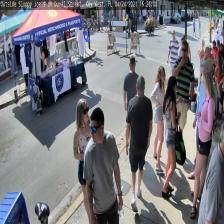person: (125, 76, 153, 211), (123, 55, 140, 143)
